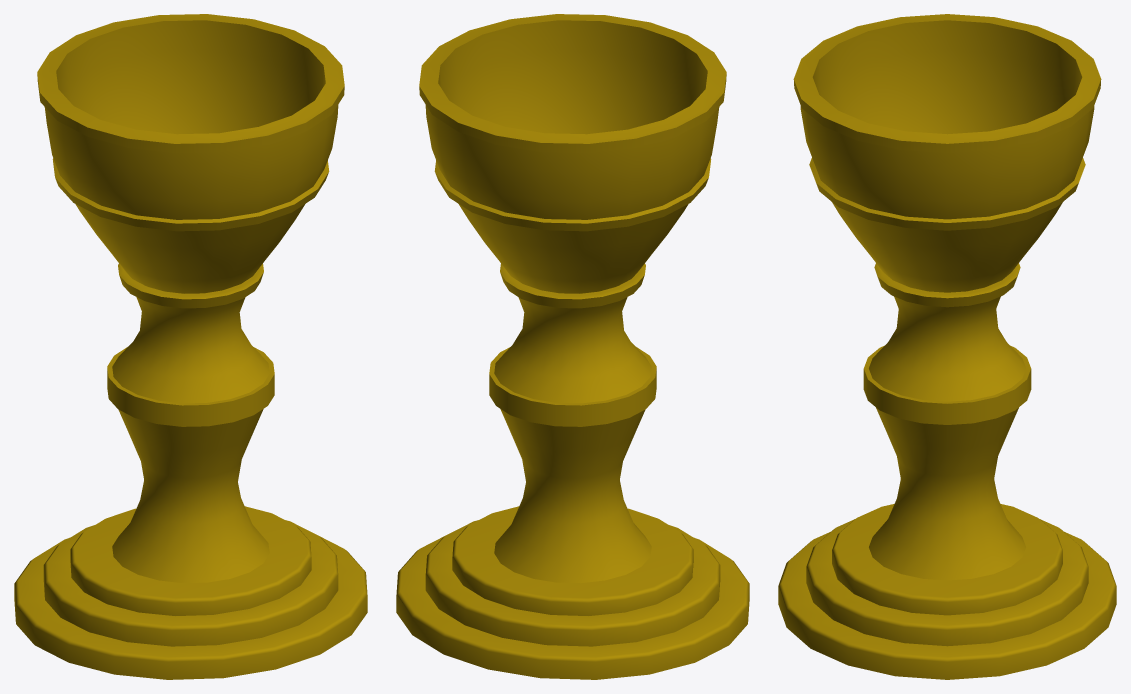
Rendered from Coupe.fbx.
The picture shows the model from 3 angles, left to right: view 1: azimuth 30°, elevation 25°; view 2: azimuth 150°, elevation 25°; view 3: azimuth 270°, elevation 25°; orthographic projection.
Parts seen in each view (by area): view 1: pSphere1, pCylinder1, pCylinder2; view 2: pSphere1, pCylinder1, pCylinder2; view 3: pSphere1, pCylinder1, pCylinder2.
Part boxes in pixels (<box>): pSphere1: <box>37,14,344,293</box>; pCylinder1: <box>14,506,367,679</box>; pCylinder2: <box>107,263,274,583</box>; pSphere1: <box>419,14,726,293</box>; pCylinder1: <box>396,506,749,679</box>; pCylinder2: <box>489,263,656,583</box>; pSphere1: <box>793,14,1101,292</box>; pCylinder1: <box>778,504,1116,679</box>; pCylinder2: <box>863,263,1031,580</box>.
Size of the model in its own units: 0.343 by 0.5554 by 0.3234.
